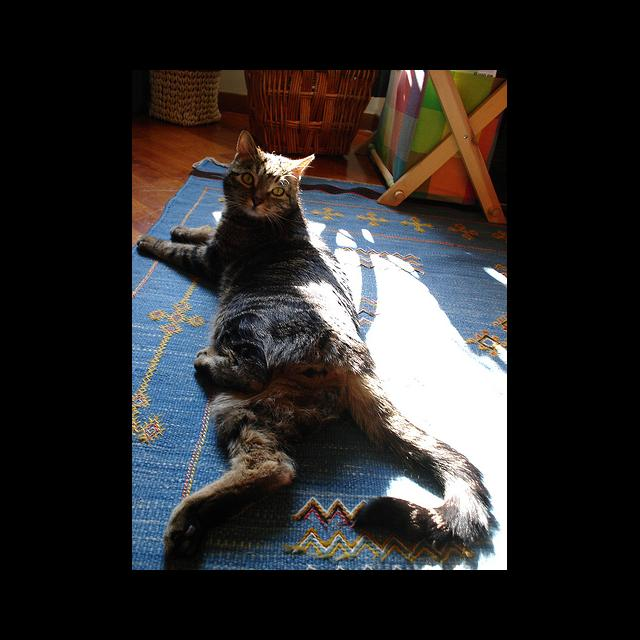animals: (237, 128, 314, 205)
